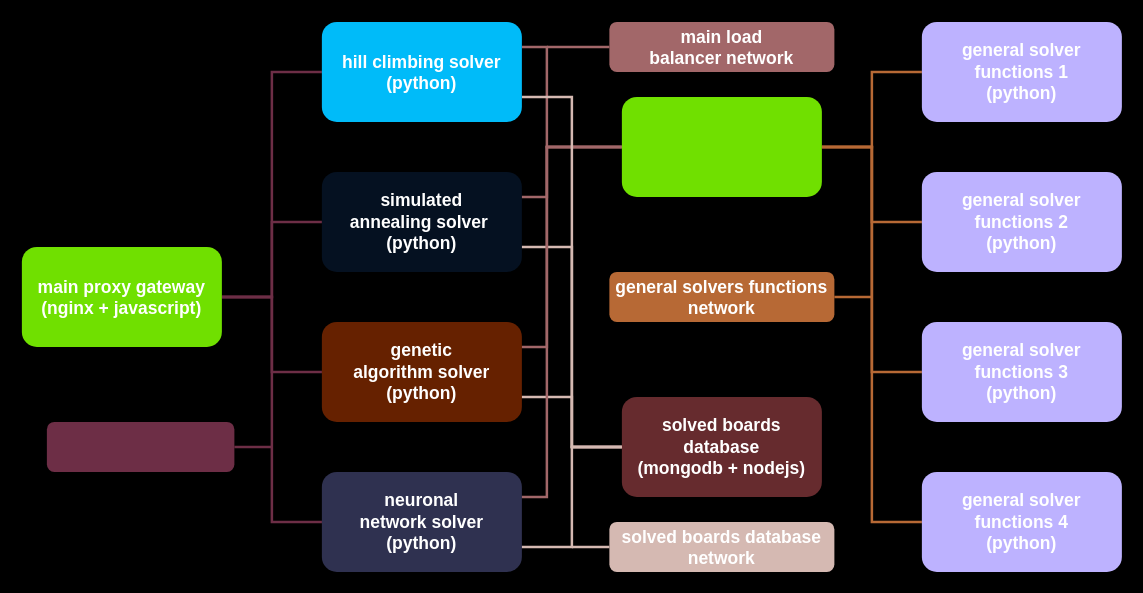
This 1143x593 diagram has some shape labels left out. Each missing label, with the centre of its shape:
main load balancer (nginx): (721,146)
main proxy gateway network: (140,446)
